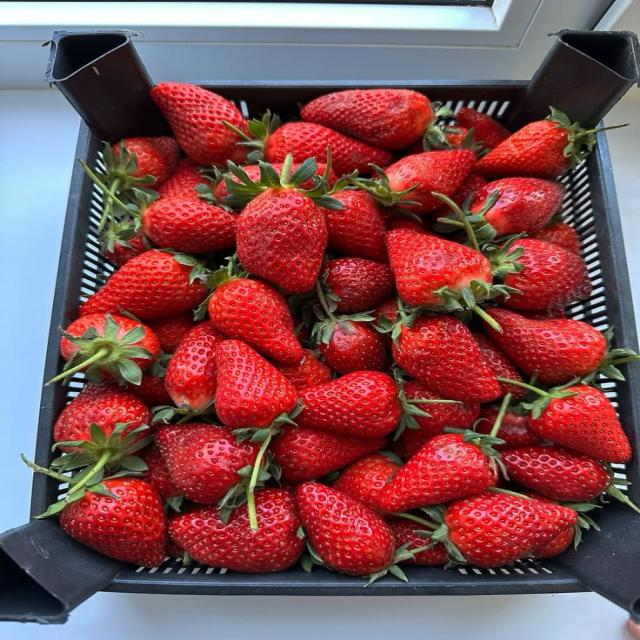strawberry: (227, 161, 341, 292), (169, 489, 304, 572), (434, 492, 577, 566), (387, 229, 508, 313), (60, 478, 166, 566), (81, 138, 179, 232), (393, 316, 500, 402), (380, 434, 497, 512), (487, 308, 606, 384), (297, 483, 395, 575), (80, 250, 206, 320), (475, 108, 595, 179), (156, 423, 258, 504), (208, 278, 304, 364), (301, 89, 433, 150), (151, 83, 247, 166), (530, 385, 632, 463), (54, 314, 159, 384), (215, 340, 297, 428), (296, 371, 402, 437), (312, 280, 386, 374), (264, 122, 392, 176), (500, 239, 592, 310), (270, 427, 386, 482), (378, 150, 476, 214), (501, 446, 611, 502), (469, 177, 565, 239), (54, 383, 151, 442), (165, 321, 226, 412), (142, 198, 237, 253), (393, 402, 479, 459), (326, 190, 387, 262), (527, 504, 599, 559), (322, 258, 394, 313), (332, 454, 399, 512), (317, 318, 386, 374), (112, 137, 179, 187), (473, 332, 524, 381), (274, 350, 333, 391), (456, 107, 511, 148), (141, 446, 181, 500), (157, 158, 208, 199), (101, 222, 146, 266), (148, 312, 196, 353), (494, 410, 541, 450), (128, 365, 172, 407), (532, 222, 579, 255), (528, 528, 574, 559), (387, 519, 429, 551), (451, 173, 486, 208), (387, 214, 430, 234), (372, 297, 398, 326), (425, 205, 452, 232), (519, 306, 567, 320), (446, 126, 474, 148), (214, 179, 230, 204), (166, 538, 185, 559)
